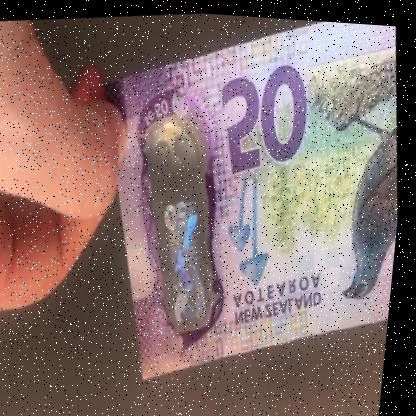50B: (133, 130, 227, 329)
